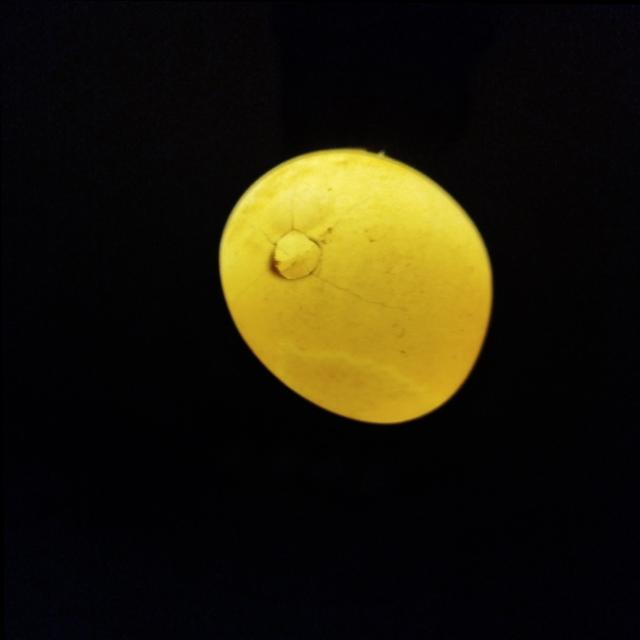Camara de Ar: (260, 352, 434, 423)
Rachadura: (259, 202, 408, 311)
